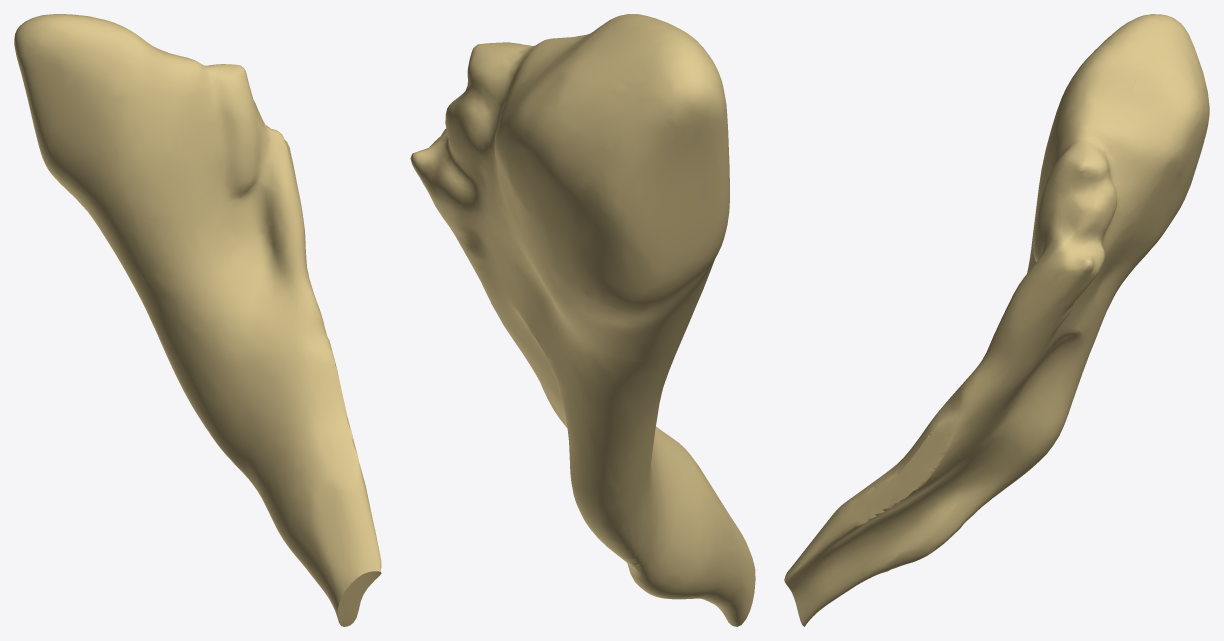
3 views of the same model, side by side, from view 1: azimuth 30°, elevation 25°; view 2: azimuth 150°, elevation 25°; view 3: azimuth 270°, elevation 25° (orthographic). The views are drawn at different scales.
Visible parts, largest first — view 1: 右侧小脑上脚; view 2: 右侧小脑上脚; view 3: 右侧小脑上脚.
Boxes of the visible parts, x1=… form: 右侧小脑上脚: x1=14, y1=14, x2=381, y2=626; 右侧小脑上脚: x1=410, y1=14, x2=755, y2=626; 右侧小脑上脚: x1=784, y1=14, x2=1209, y2=626.
Bounding box in the file's own units: 0.0202 × 0.0442 × 0.0313.
